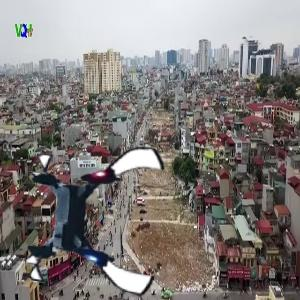drone: (21, 140, 174, 293)
